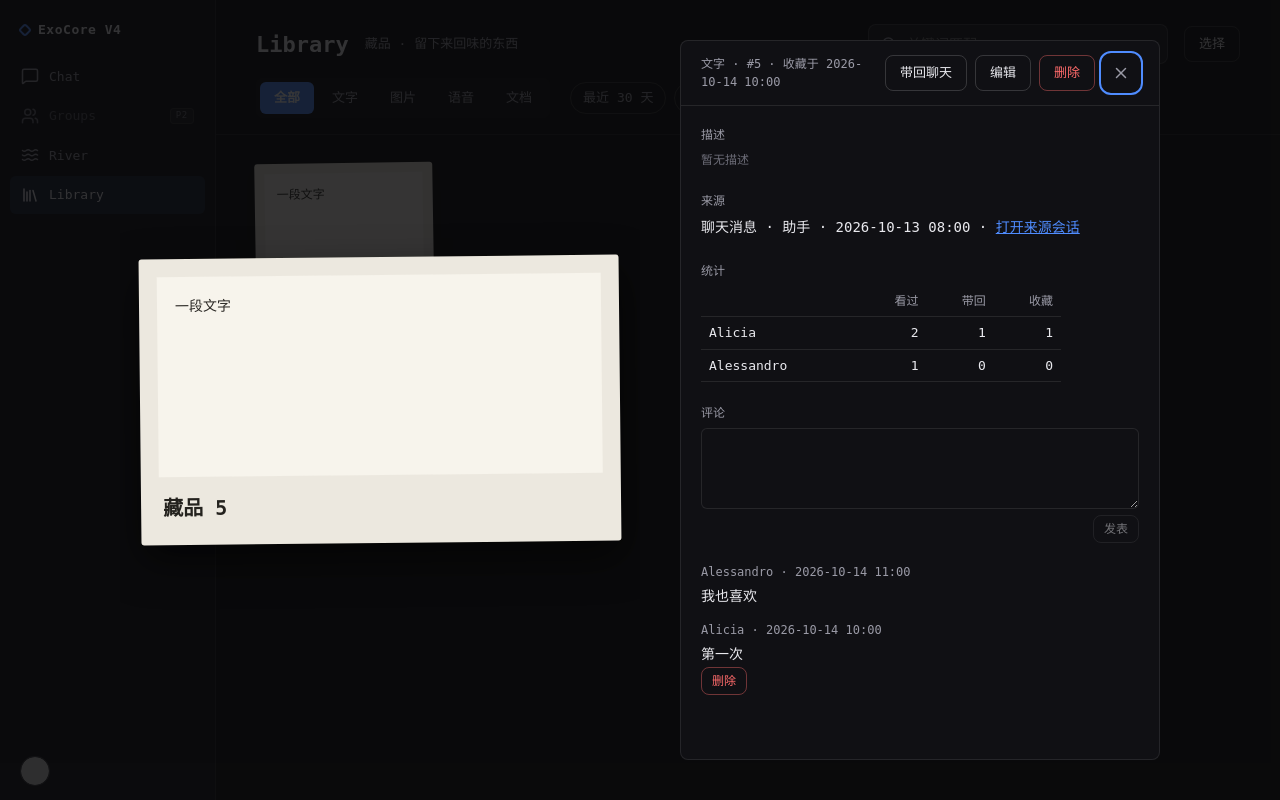
Library comments: order and composer (D1/D2) › keeps the draft with a visible error on failure, blocks resubmits while pending, and retries
In the text box named "评论内容": point(920, 469) [701,428,1139,509], type "新的一条"
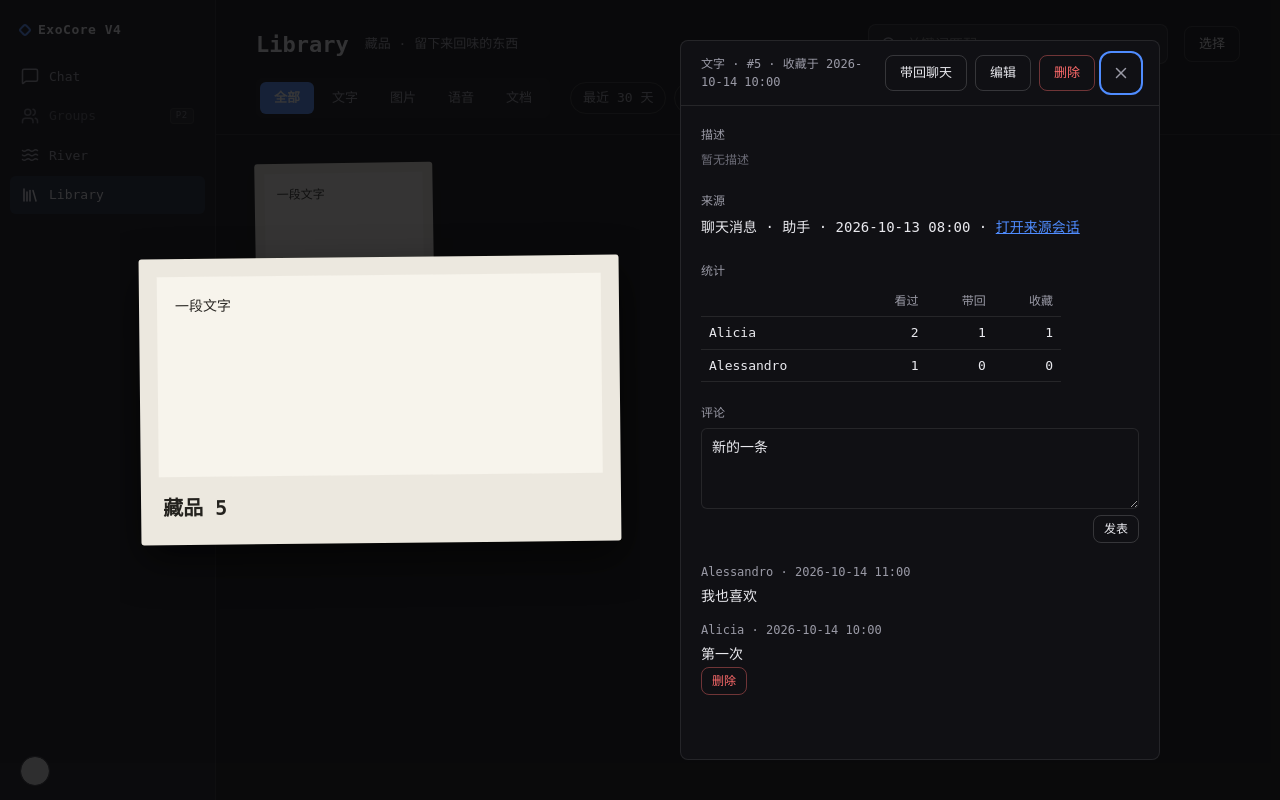
Click the button "发表": point(1116, 529) [1093,515,1139,543]
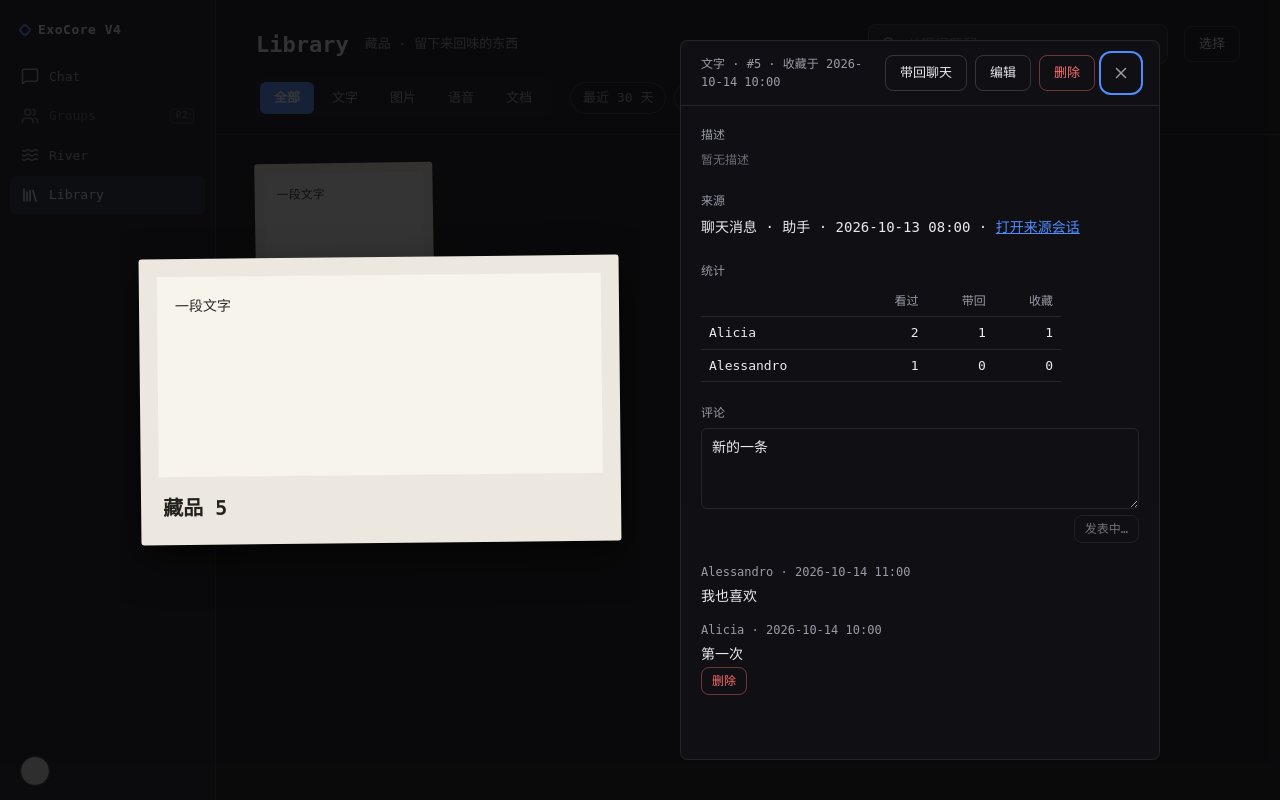
Now the button "发表中…" is disabled, box [1074,515,1139,543]
Submit the form named "发表评论", box [701,428,1139,543]
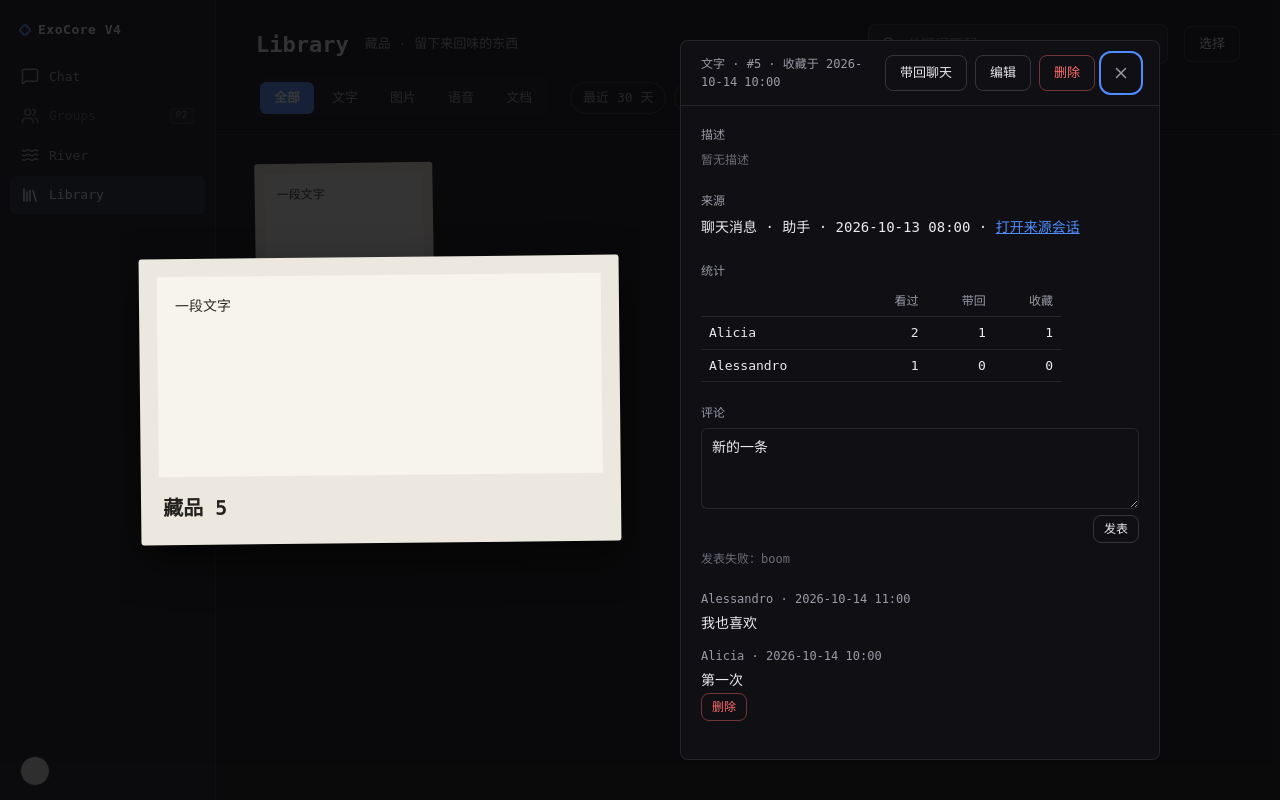
Now the text "发表失败：boom" is shown, box [701,552,790,566]
Click the button "发表": point(1116, 529) [1093,515,1139,543]
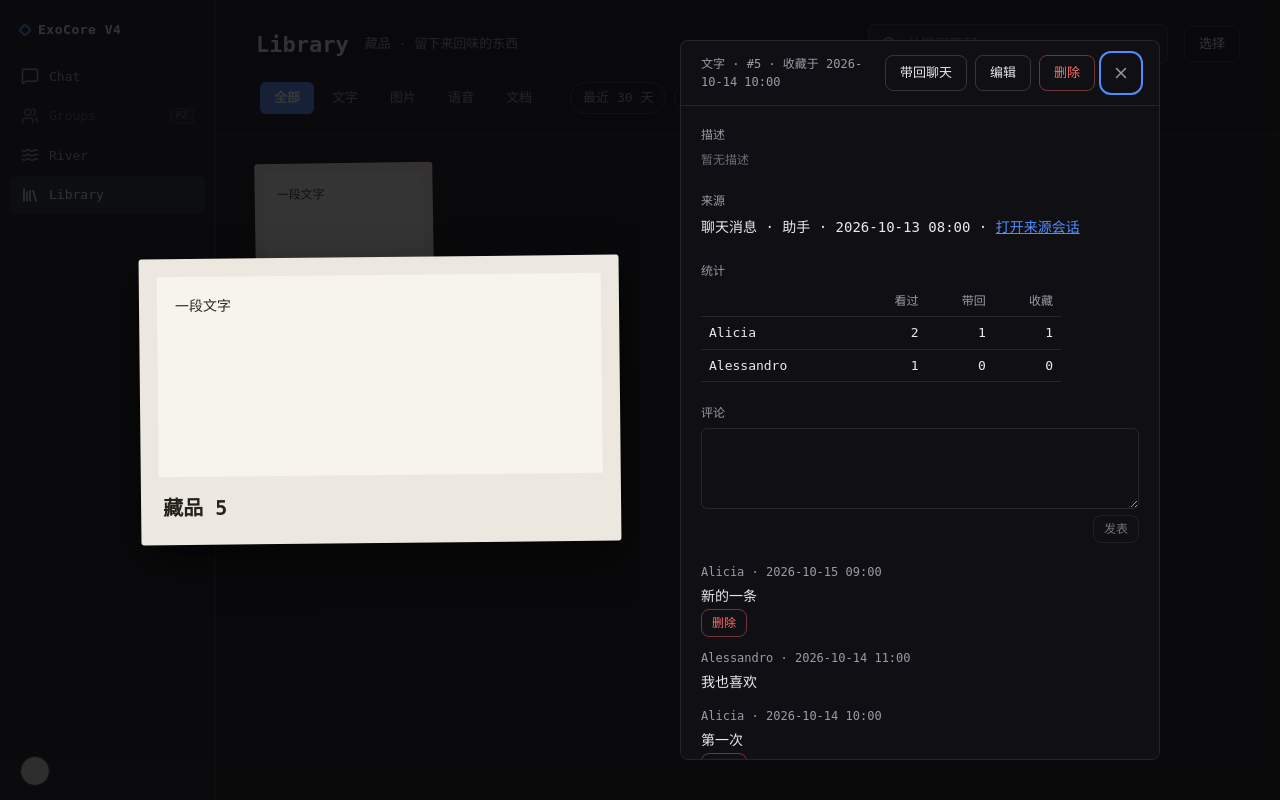
Now the text "新的一条" is shown, box [701,588,757,604]
Now the text "发表失败：boom" is gone
